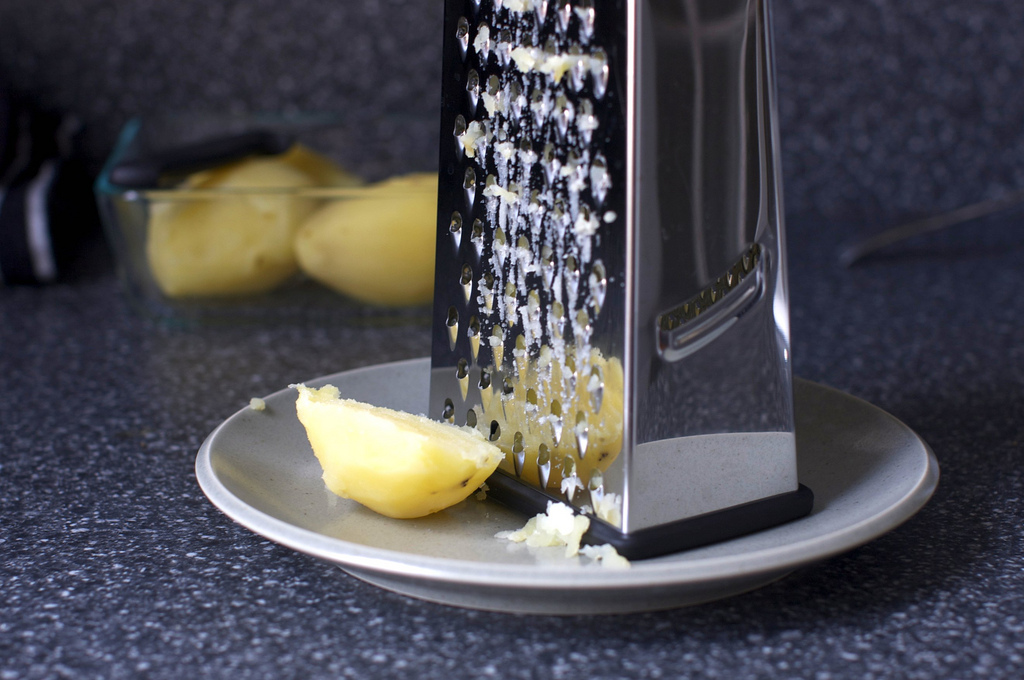boiled potatoes: (284, 375, 511, 522), (143, 141, 323, 291), (288, 151, 446, 310)
